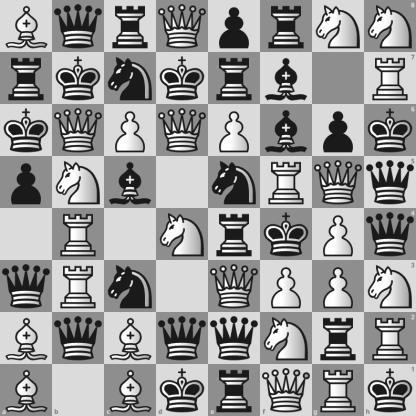B: (0, 364, 52, 416), (104, 364, 156, 416), (1, 1, 52, 52), (1, 313, 52, 364), (105, 313, 156, 364)
N: (364, 0, 416, 52), (364, 260, 416, 312), (53, 157, 104, 208), (157, 209, 208, 260), (261, 313, 312, 364), (313, 1, 364, 52)
P: (105, 105, 156, 156), (209, 105, 260, 156), (261, 261, 312, 312), (313, 209, 364, 260), (313, 261, 364, 312)
Q: (260, 364, 312, 416), (53, 105, 104, 156), (157, 1, 208, 52), (157, 105, 208, 156), (209, 261, 260, 312), (313, 157, 364, 208)
R: (312, 364, 364, 416), (364, 52, 416, 104), (364, 312, 416, 364), (53, 209, 104, 260), (53, 261, 104, 312), (261, 157, 312, 208)
b: (105, 157, 156, 208), (261, 53, 312, 104), (261, 105, 312, 156)
board: (0, 0, 415, 415)
k: (156, 364, 209, 416), (364, 104, 416, 156), (364, 364, 416, 416), (1, 105, 52, 156), (53, 53, 104, 104), (157, 53, 208, 104), (261, 209, 312, 260)
n: (105, 53, 156, 104), (105, 261, 156, 312), (209, 157, 260, 208)
p: (1, 157, 52, 208), (209, 1, 260, 52), (313, 105, 364, 156)
q: (364, 156, 416, 209), (364, 209, 416, 260), (1, 261, 52, 312), (53, 1, 104, 52), (53, 313, 104, 364), (157, 313, 208, 364), (209, 313, 260, 364)
r: (209, 364, 260, 416), (1, 53, 52, 104), (105, 1, 156, 52), (209, 53, 260, 104), (209, 209, 260, 260), (261, 1, 312, 52), (313, 313, 364, 364)
